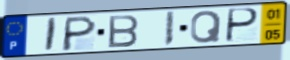B: (107, 13, 141, 49)
I: (43, 17, 59, 54), (163, 10, 176, 48)
P: (59, 15, 98, 52), (224, 7, 261, 44)
Q: (189, 10, 223, 45)
